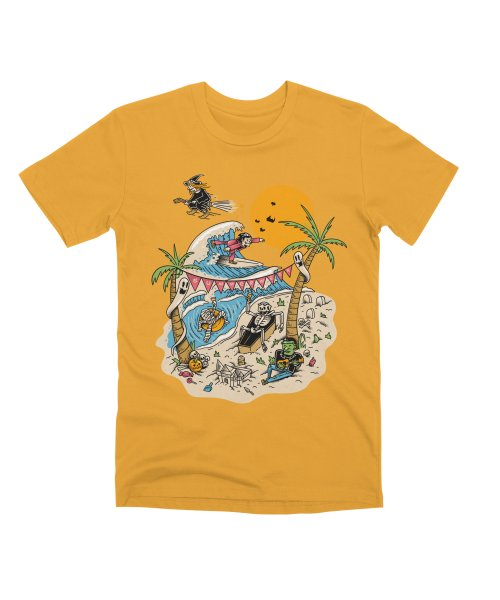design: (144, 167, 354, 411)
